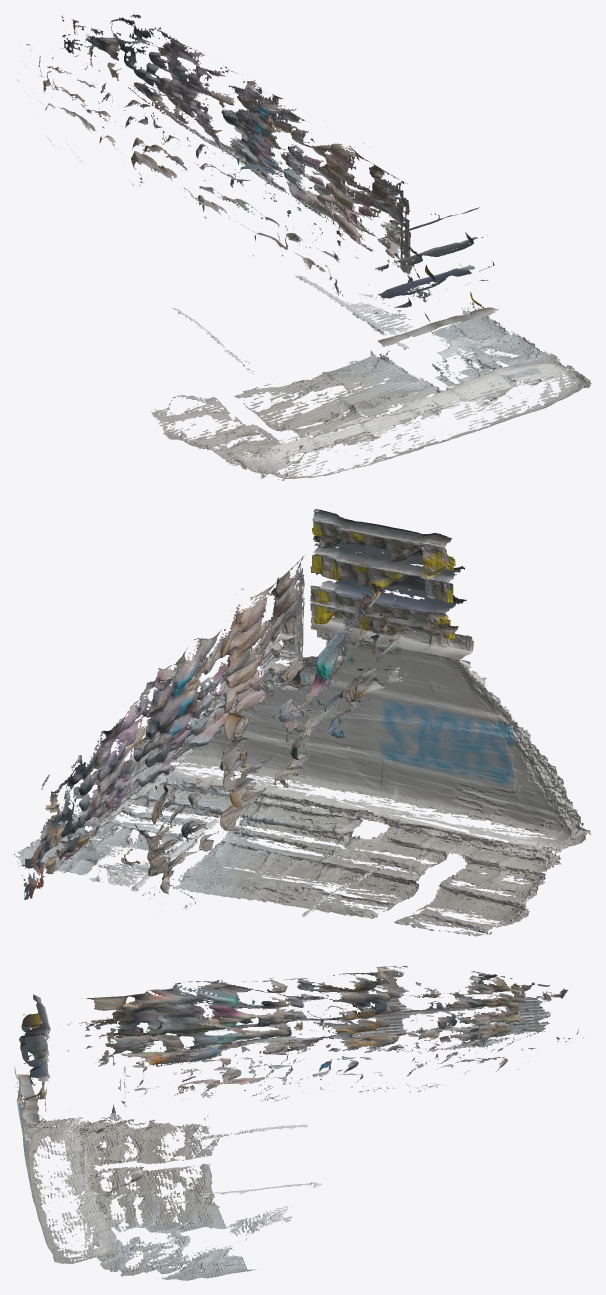
The model's file is room-0.glb.
The picture shows the model from 3 angles, top to bottom: view 1: azimuth 30°, elevation 25°; view 2: azimuth 150°, elevation 25°; view 3: azimuth 270°, elevation 25°; orthographic projection. The views are drawn at different scales.
Visible parts, largest first — view 1: geometry_0; view 2: geometry_0; view 3: geometry_0.
Part boxes in pixels (x1=…): geometry_0: x1=16, y1=14, x2=591, y2=480; geometry_0: x1=14, y1=509, x2=591, y2=936; geometry_0: x1=14, y1=965, x2=583, y2=1280.
Size of the model in its own units: 10.38 by 6.78 by 16.54.
